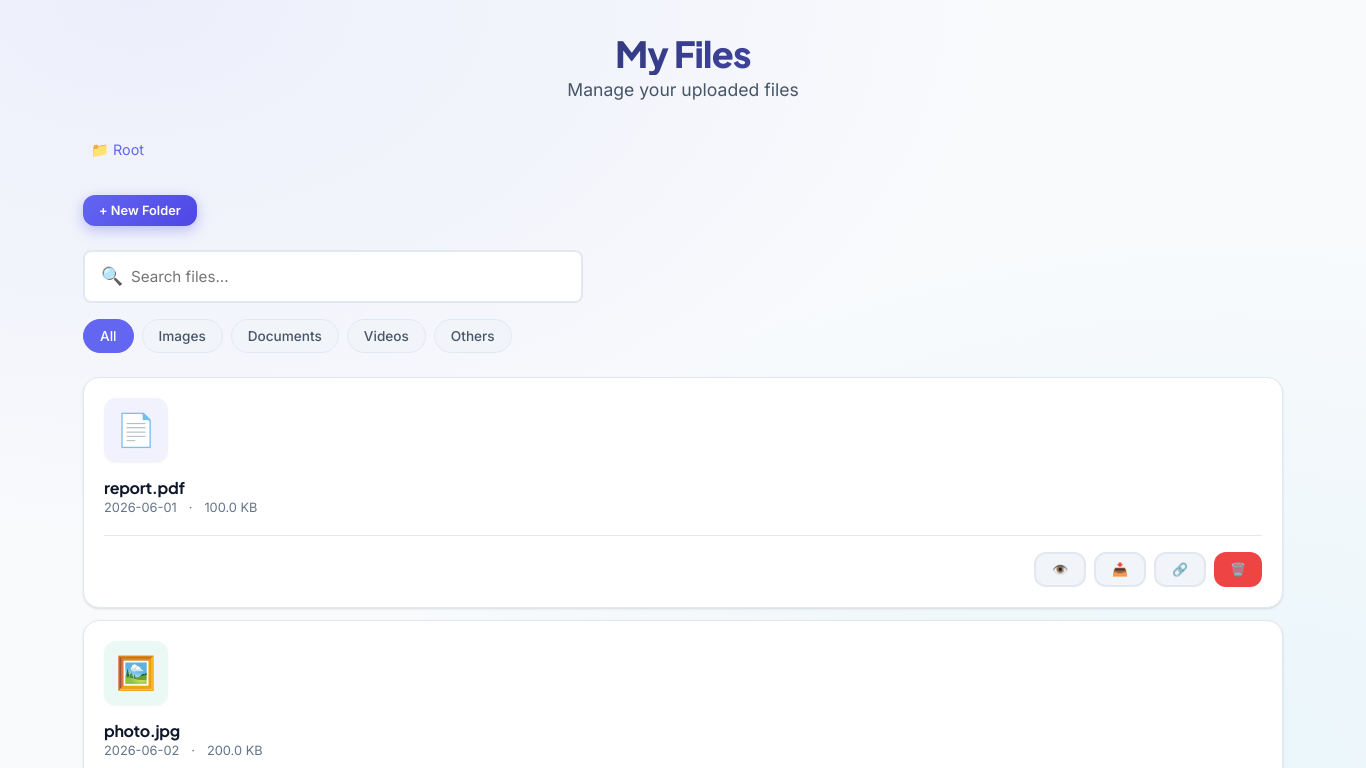
MyFiles Component › filter tabs switch active filter
Expected: the heading "report.pdf" is shown, [104, 477, 185, 498]
Click the button "Images" at (182, 336), box [142, 319, 223, 353]
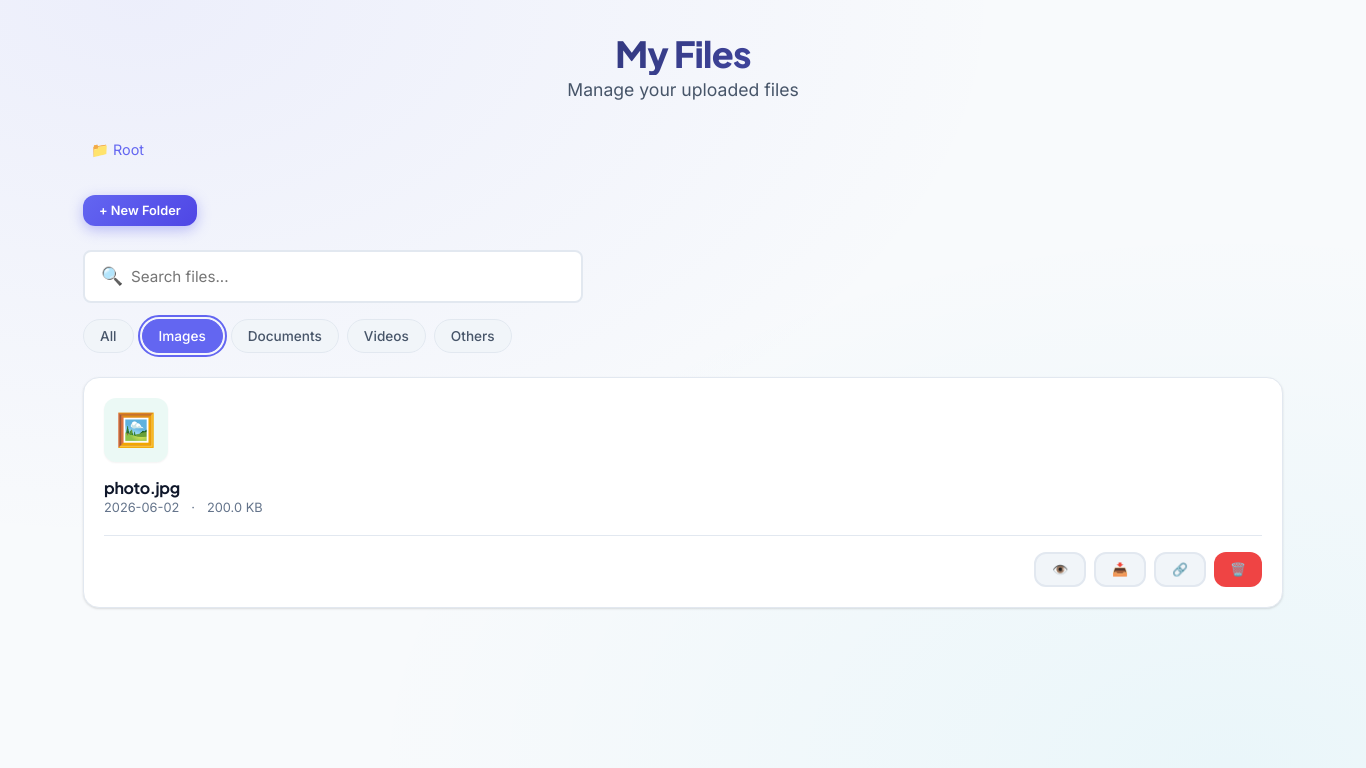
Expected: the heading "photo.jpg" is shown, [104, 477, 180, 498]
Expected: the heading "report.pdf" is gone
